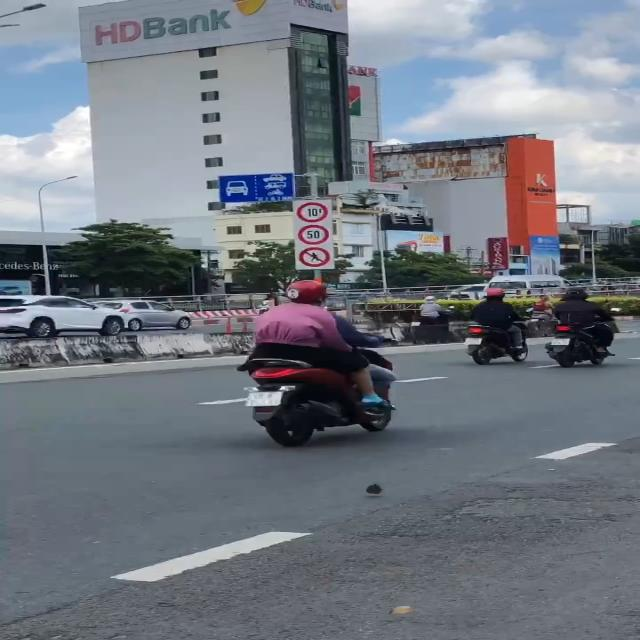Bien bao cam nguoi di bo: (296, 245, 334, 267)
Bien bao toc do toi da cho phep: (296, 223, 334, 246)
